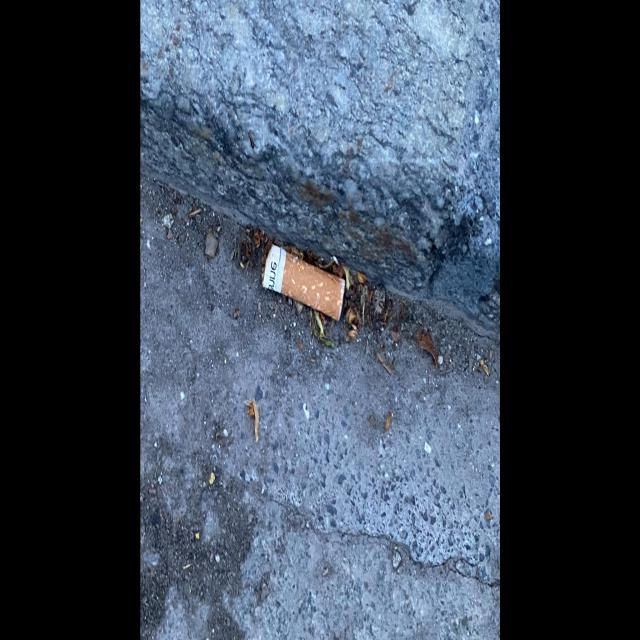other waste: (260, 242, 345, 322)
